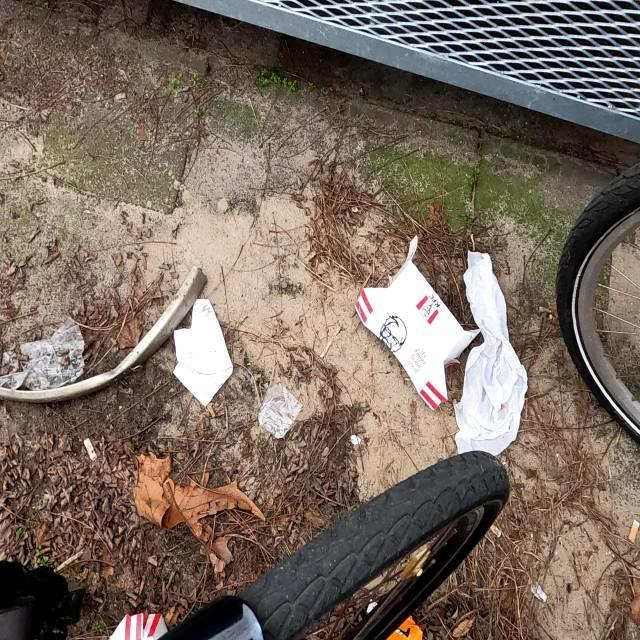Paper: (354, 234, 481, 412), (454, 249, 528, 457), (170, 297, 233, 407)
